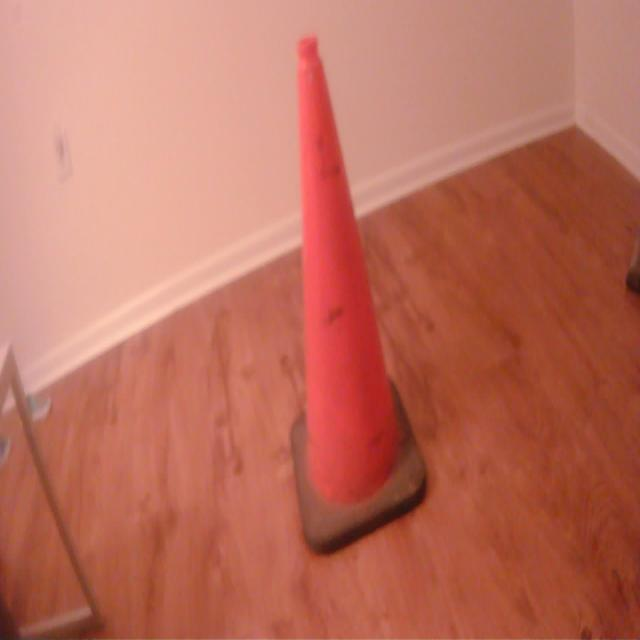traffic cone: (286, 33, 431, 562)
